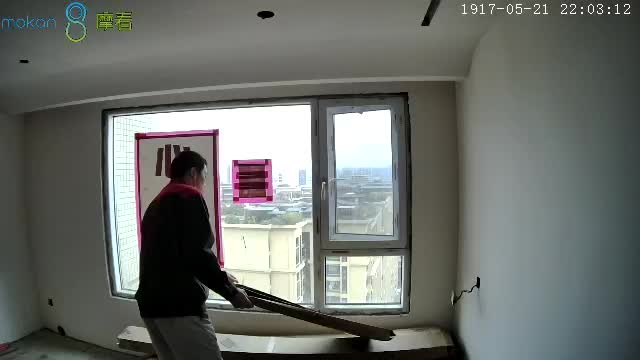people: (137, 151, 253, 359)
window: (105, 103, 409, 308)
